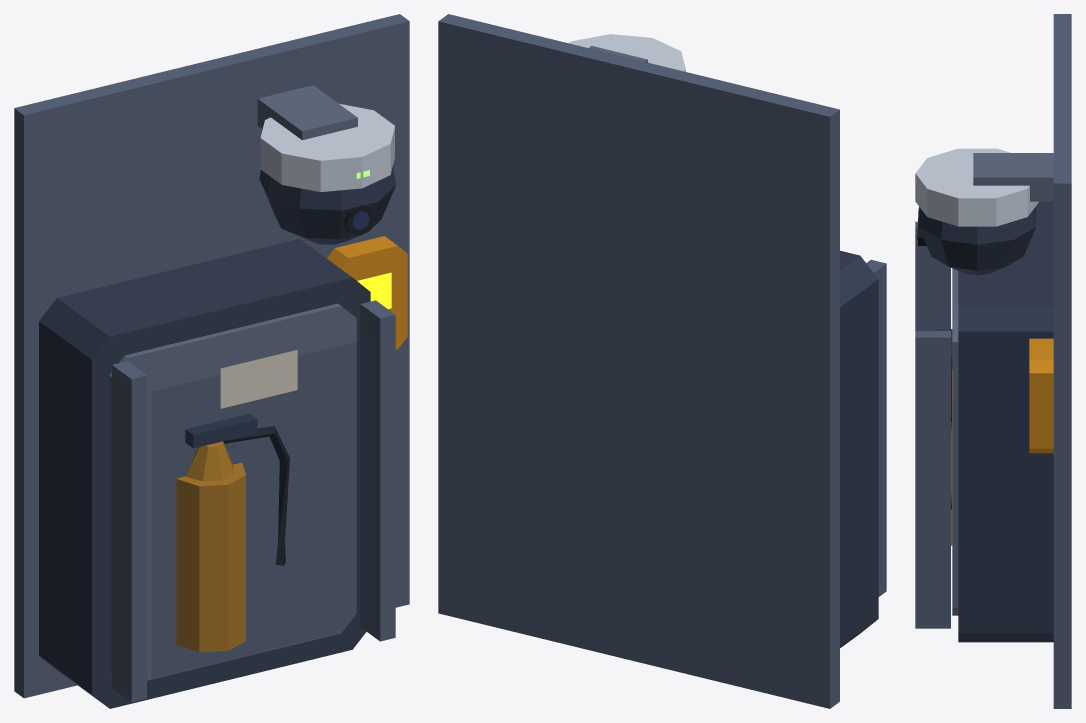
File: mall_security_fixture.glb
3 renders of one model, left to right at view 1: azimuth 30°, elevation 25°; view 2: azimuth 150°, elevation 25°; view 3: azimuth 270°, elevation 25°, orthographic. The views are drawn at different scales.
Parts seen in each view (by area): view 1: backplate, safety_window, cabinet, camera_arm, alarm, camera_fascia, inspection, hose, alarm_button; view 2: backplate, cabinet, camera_fascia; view 3: cabinet, backplate, camera_fascia, camera_arm, alarm.
Boxes of the visible parts, x1,y1,x2,y2 form: backplate: [14, 14, 409, 701]; safety_window: [152, 338, 373, 678]; cabinet: [39, 166, 395, 708]; camera_arm: [109, 85, 357, 680]; alarm: [176, 236, 407, 652]; camera_fascia: [260, 103, 394, 192]; inspection: [220, 350, 297, 408]; hose: [223, 205, 374, 565]; alarm_button: [357, 272, 391, 308]; backplate: [438, 14, 886, 708]; cabinet: [840, 250, 878, 647]; camera_fascia: [569, 34, 685, 71]; cabinet: [918, 201, 1053, 642]; backplate: [915, 14, 1071, 708]; camera_fascia: [915, 148, 1038, 226]; camera_arm: [952, 153, 1053, 615]; alarm: [951, 338, 1053, 545].
Size of the model in its own units: 0.9 by 1.3 by 0.35.
